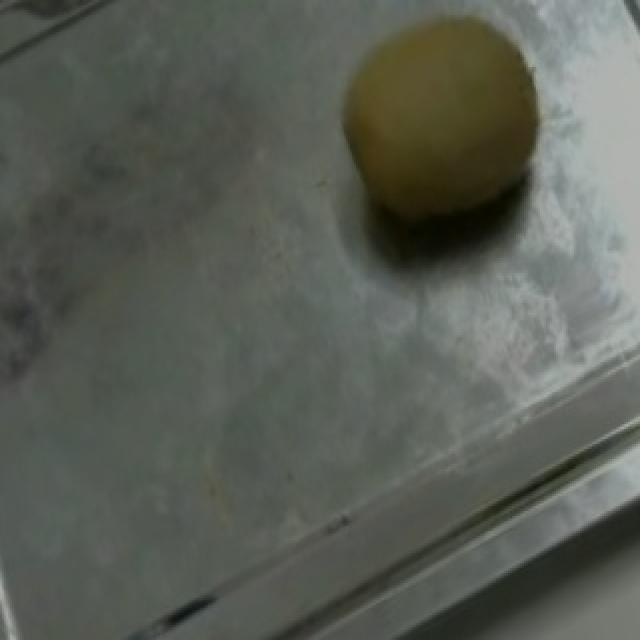Fruit: (296, 0, 576, 285)
